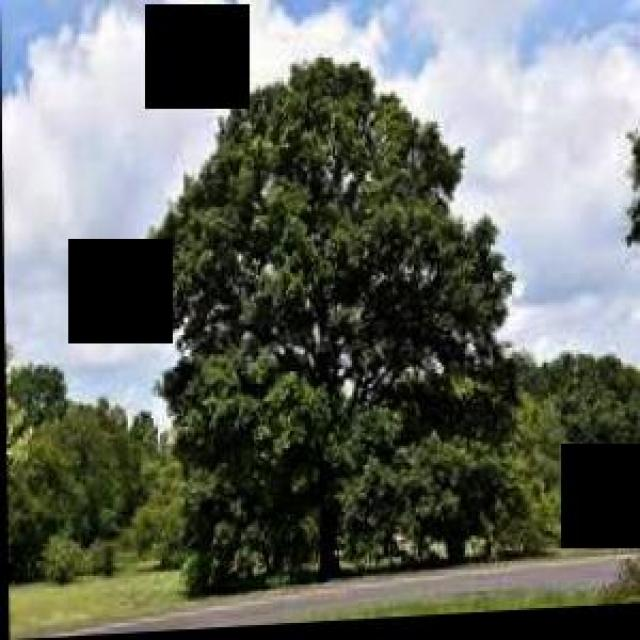tree: (140, 42, 519, 594)
